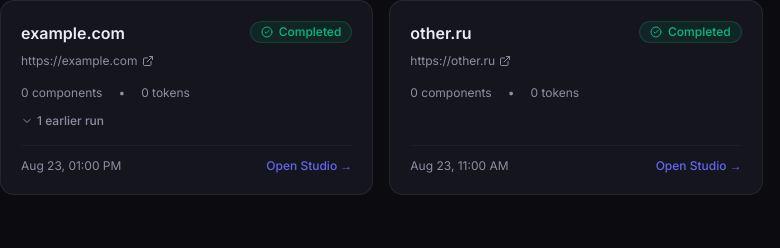
it: RecentProjects grouping UI › expands earlier runs on click
Step 1. Click the button "1 earlier run" → [62, 121], box [21, 113, 104, 129]
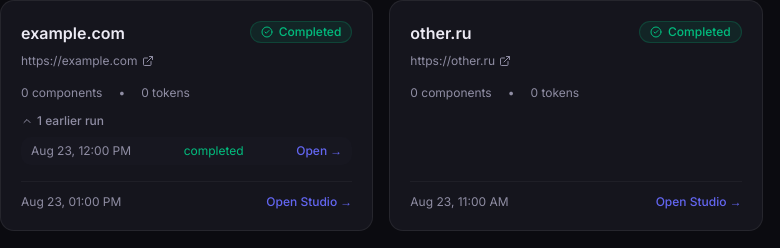
Expected: the number of links "Open →" is 3, [296, 143, 342, 159]; [266, 194, 352, 210]; [656, 194, 742, 210]
